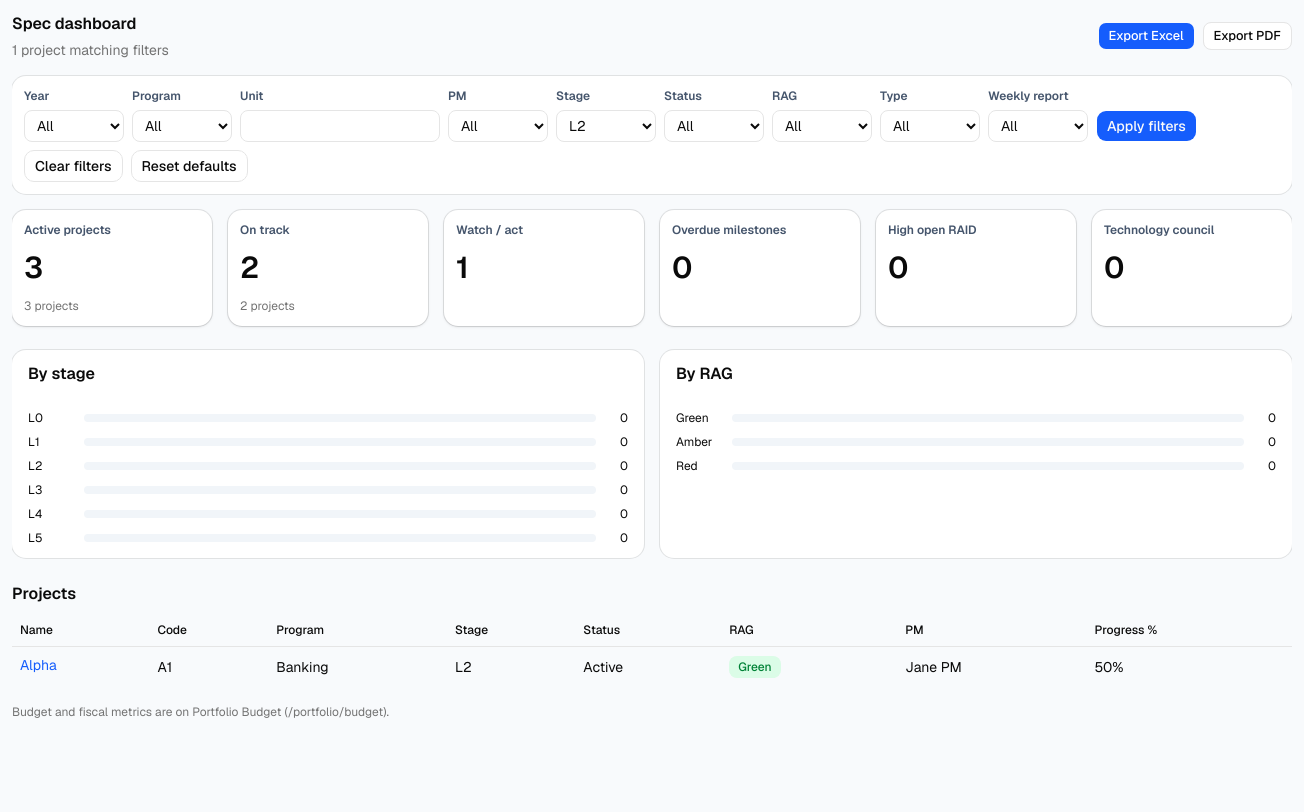
PortfolioDashboardPage › opens overdue drill-down panel when Overdue milestones tile clicked
Expected: the element with test id "spec-kpi-row" is shown, [12,210,1292,326]
Click the button "Overdue milestones 0" at {"x": 760, "y": 268}, box [660,210,860,326]
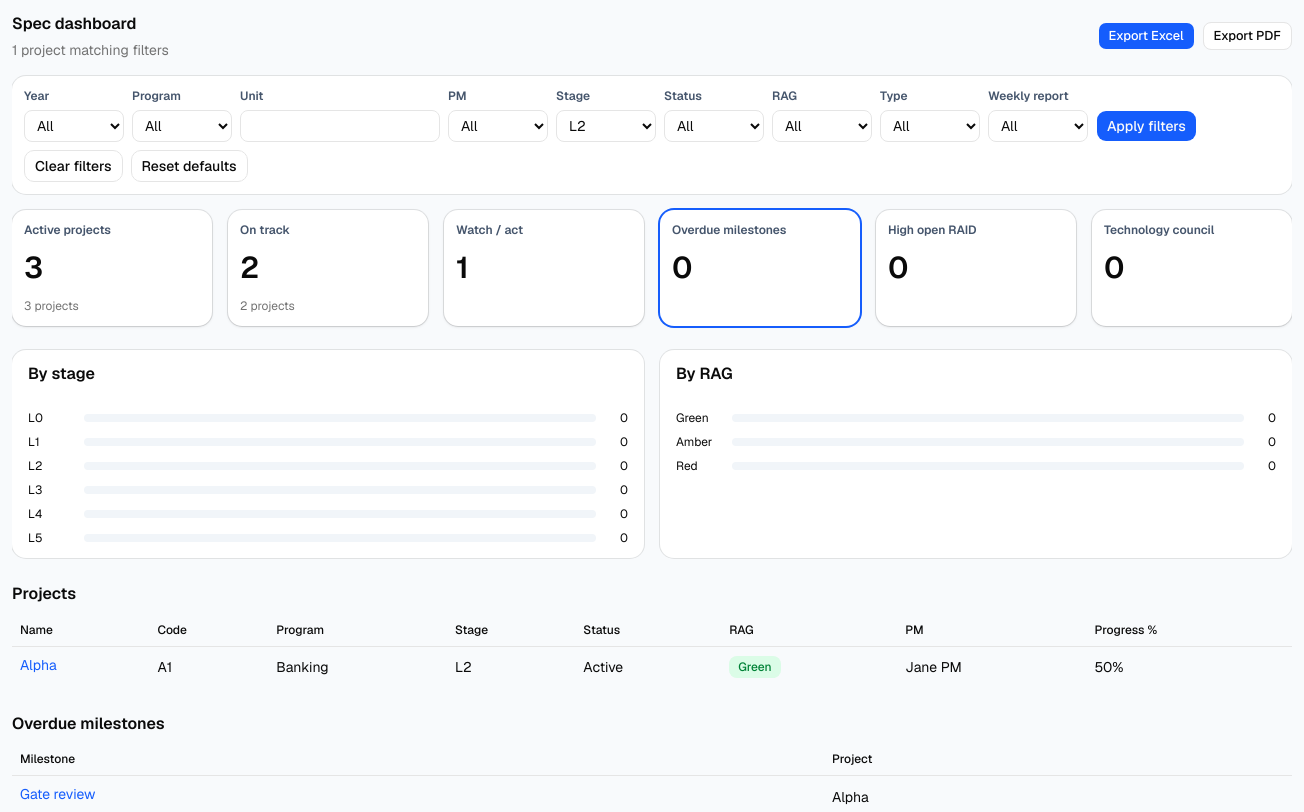
Now the heading "Overdue milestones" is shown, box [12,712,165,734]
